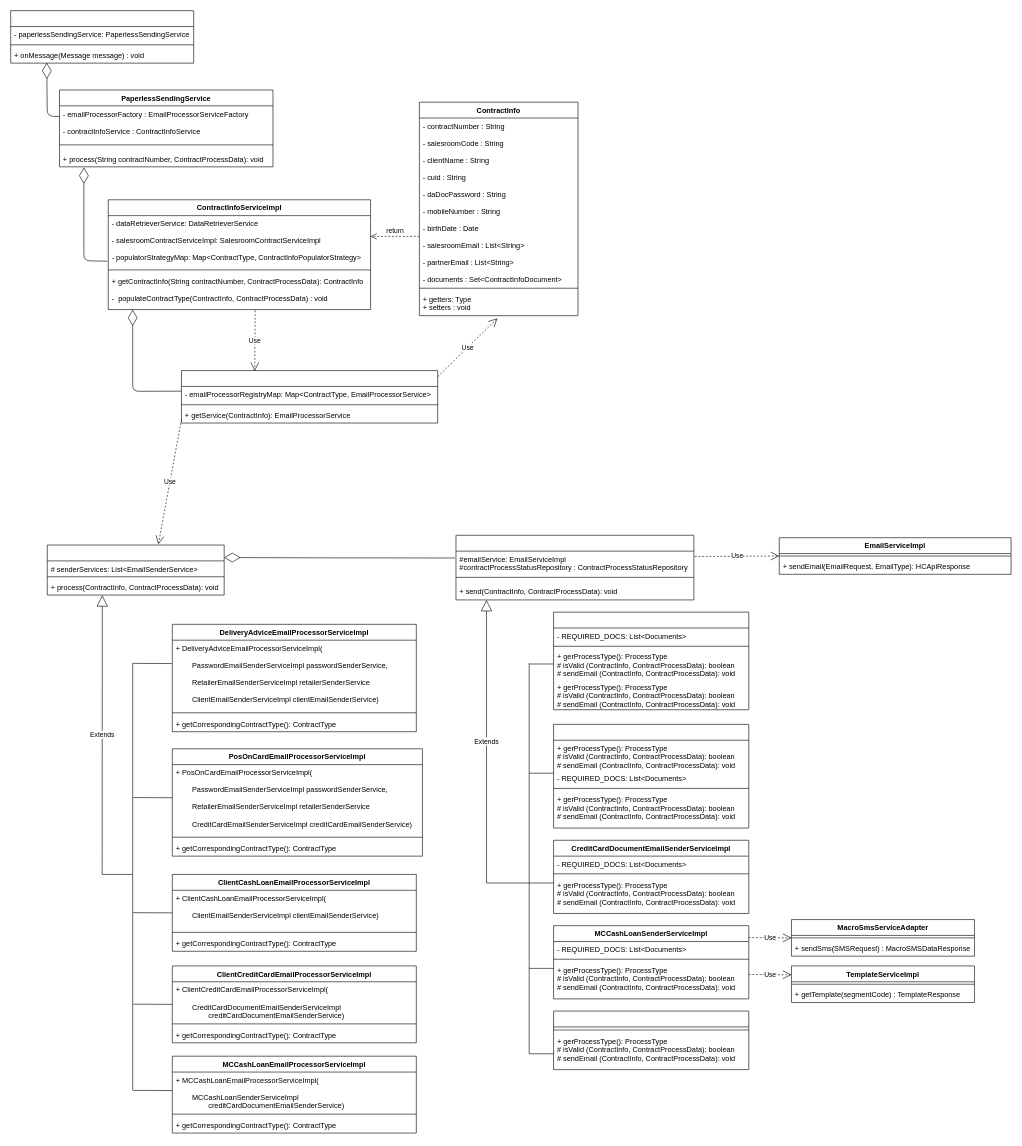
This 1022x1146 diagram has some shape labels left out. The shapes that lost their labels are listed below. From the top down, each one's box as (x1, y1, x2, y2) in pixels, then its label:
(10, 10, 194, 63): PaperlessEmailMessageReceiver
(181, 370, 438, 423): EmailProcessorServiceFactory
(47, 544, 224, 595): EmailProcessorService
(455, 535, 694, 600): EmailSenderService
(553, 612, 749, 710): RetailerEmailSenderServiceImpl
(553, 724, 749, 828): ClientEmailSenderServiceImpl
(553, 1010, 749, 1070): PasswordEmailSenderServiceImpl
